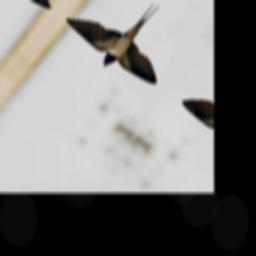Swallow: (53, 0, 200, 98)
